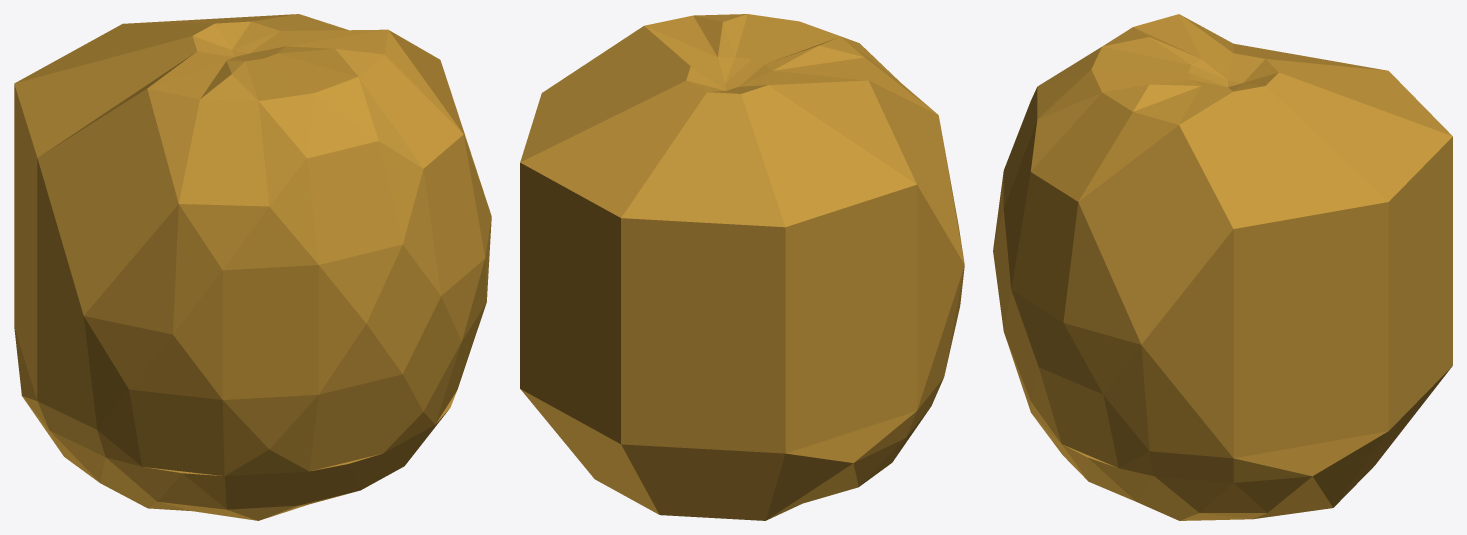
The model's file is TestPomme.fbx.
The picture shows the model from 3 angles, left to right: view 1: azimuth 30°, elevation 25°; view 2: azimuth 150°, elevation 25°; view 3: azimuth 270°, elevation 25°; orthographic projection. The views are drawn at different scales.
Parts seen in each view (by area): view 1: jaune.008; view 2: jaune.008; view 3: jaune.008.
Part boxes in pixels (bbox=[...]): jaune.008: bbox=[14, 14, 491, 520]; jaune.008: bbox=[520, 14, 964, 520]; jaune.008: bbox=[993, 14, 1452, 520].
Bounding box in the file's own units: 73.18 × 75.87 × 75.75.
